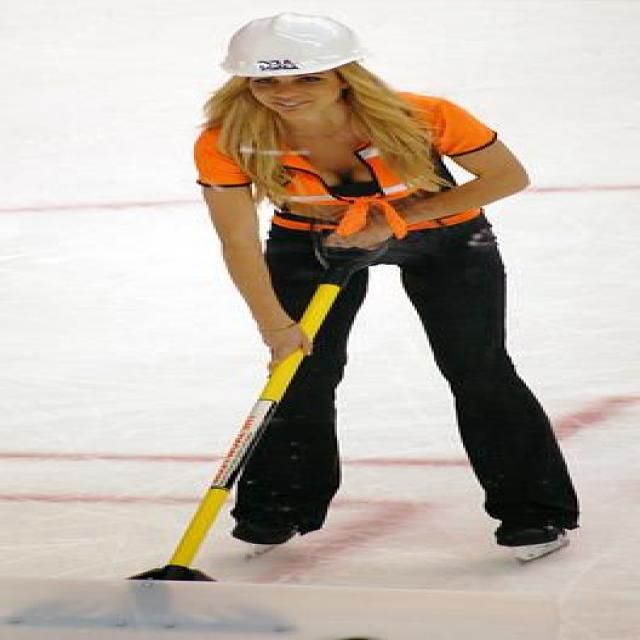Reflective-Jacket: (204, 94, 512, 244)
Safety-Helmet: (211, 8, 381, 82)
